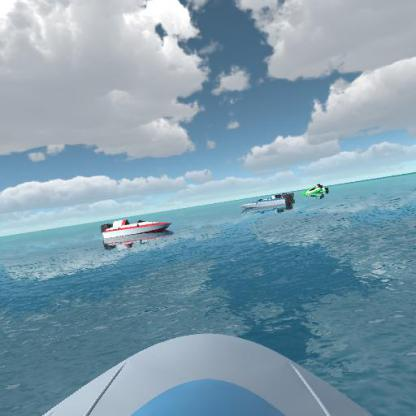usv0: (298, 182, 334, 198)
usv1: (238, 185, 296, 214)
usv3: (96, 213, 173, 243)
